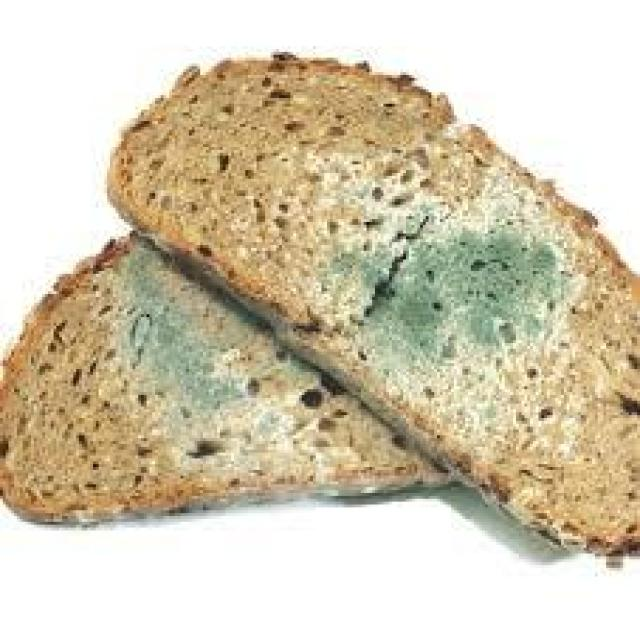organic: (0, 52, 640, 562)
